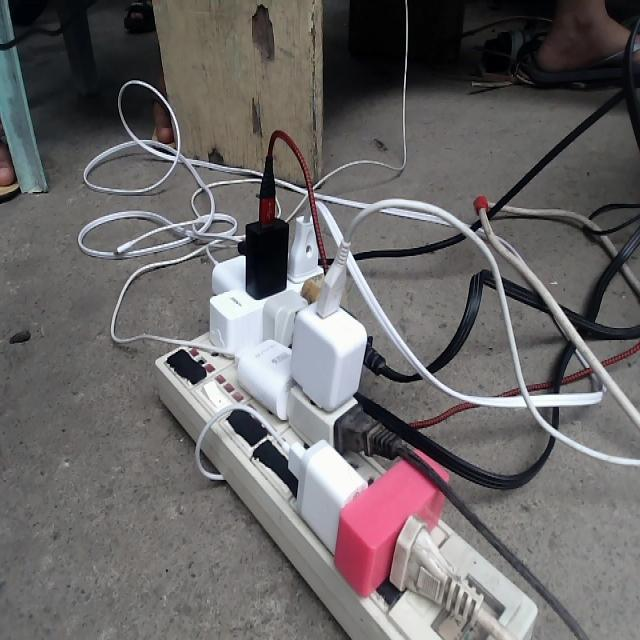-: (151, 202, 544, 638)
